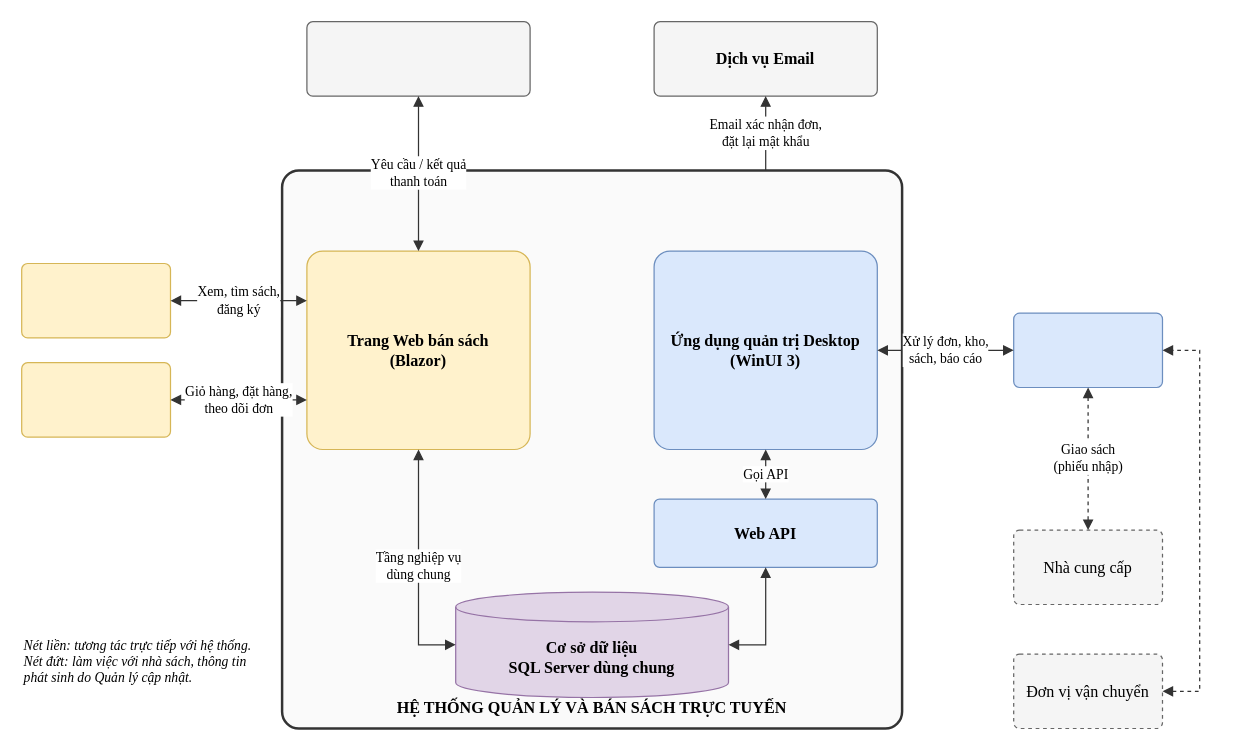
This 1233x751 diagram has some shape labels left out. The shapes that lost their labels are listed below. From the top down, each one's box as (x1, y1, x2, y2) in pixels, then its label:
(306, 20, 530, 96): Cổng thanh toán VNPay
(20, 262, 170, 338): Khách vãng lai
(1012, 312, 1162, 388): Quản lý
(20, 361, 170, 437): Khách hàng
